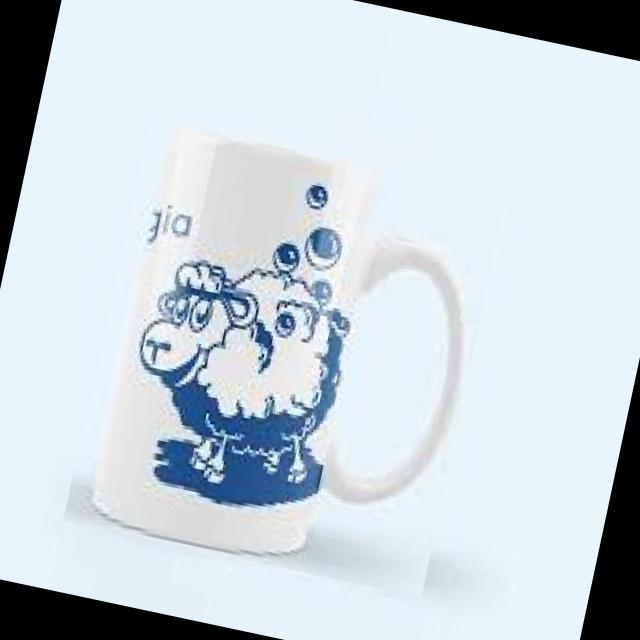Coffee Mug: (80, 125, 502, 592)
